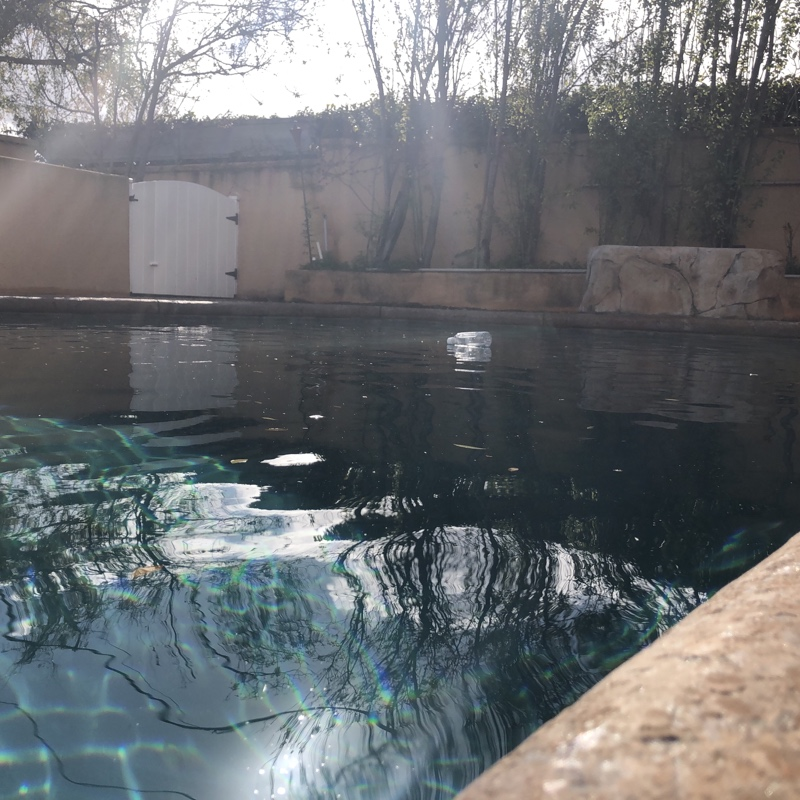Plastic Bottle: (446, 333, 491, 345)
